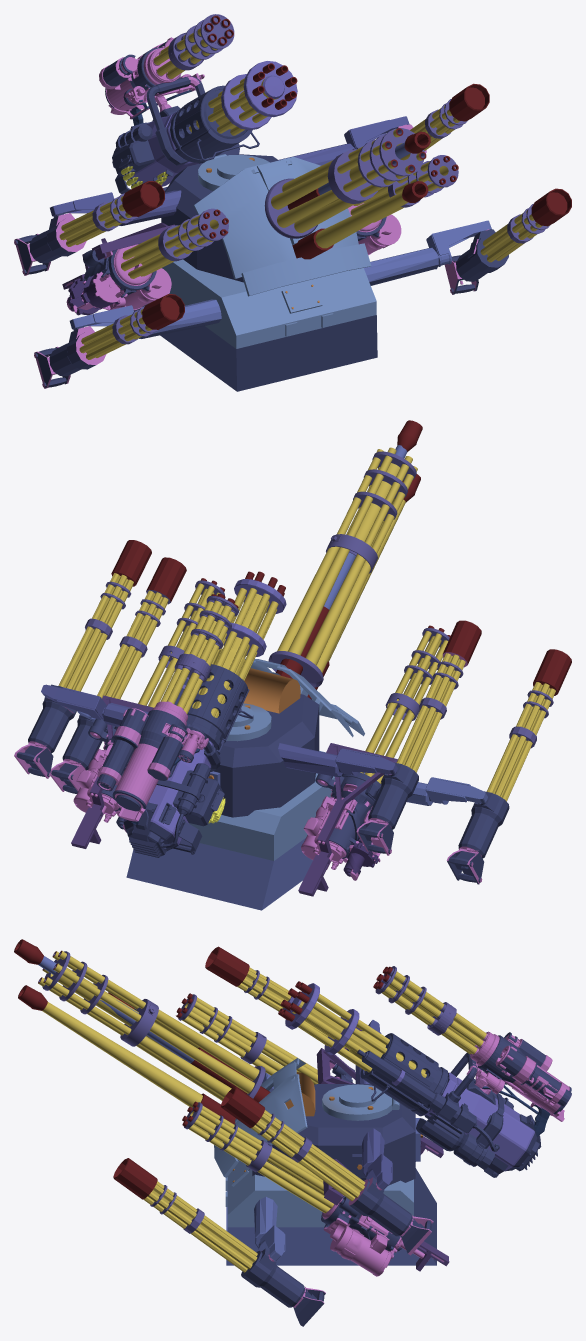
Rendered from Cannon-S-5.fbx.
3 renders of one model, top to bottom at view 1: azimuth 30°, elevation 25°; view 2: azimuth 150°, elevation 25°; view 3: azimuth 270°, elevation 25°, orthographic. The views are drawn at different scales.
Parts seen in each view (by area): view 1: pasted__pasted__pasted__pasted__polySurface268, pasted__Attack5, pasted__Attack3, pasted__pasted__pasted__Attack1, pasted__Level7_Attack9, pasted__Attack12, Attack15, Base, pasted__Attack14, pasted__Attack4, Level10_polySurface253, One1 (+1 smaller); view 2: pasted__pasted__pasted__pasted__polySurface268, pasted__Attack5, pasted__pasted__pasted__Attack1, pasted__Level7_Attack9, pasted__Attack3, pasted__Attack12, Attack15, Attack16, pasted__Attack4, pasted__Attack14, Level10_polySurface253, Base (+1 smaller); view 3: pasted__pasted__pasted__pasted__polySurface268, pasted__Attack5, pasted__pasted__pasted__Attack1, pasted__Attack4, pasted__Level7_Attack9, pasted__Attack14, Attack16, pasted__Attack3, One1, Attack15, Level10_polySurface253, Base.
Part boxes in pixels (x1,y1,x2,y2): pasted__pasted__pasted__pasted__polySurface268: (134,154,377,391); pasted__Attack5: (112,61,297,193); pasted__Attack3: (62,208,228,315); pasted__pasted__pasted__Attack1: (264,128,430,238); pasted__Level7_Attack9: (99,14,234,125); pasted__Attack12: (34,294,184,388); Attack15: (14,181,164,275); Base: (69,220,491,338); pasted__Attack14: (444,188,571,294); pasted__Attack4: (348,155,458,255); Level10_polySurface253: (50,116,409,225); One1: (292,181,428,259); pasted__pasted__pasted__pasted__polySurface268: (126,658,364,910); pasted__Attack5: (123,571,286,857); pasted__pasted__pasted__Attack1: (268,420,422,687); pasted__Level7_Attack9: (96,593,238,824); pasted__Attack3: (298,625,450,896); pasted__Attack12: (446,649,571,884); Attack15: (356,620,481,855); Attack16: (14,540,151,778); pasted__Attack4: (71,578,224,848); pasted__Attack14: (50,557,186,793); Level10_polySurface253: (41,684,397,776); Base: (77,711,487,805); pasted__pasted__pasted__pasted__polySurface268: (214,1058,436,1265); pasted__Attack5: (278,981,541,1177); pasted__pasted__pasted__Attack1: (14,939,270,1102); pasted__Attack4: (182,1101,449,1276); pasted__Level7_Attack9: (373,966,571,1136); pasted__Attack14: (113,1158,325,1326); Attack16: (221,1086,433,1255); pasted__Attack3: (176,993,443,1157); One1: (18,985,235,1124); Attack15: (205,946,362,1051); Level10_polySurface253: (355,1020,392,1190); Base: (254,1072,285,1261).
Bounding box in the file's own units: 8.46 × 5.99 × 10.27.
